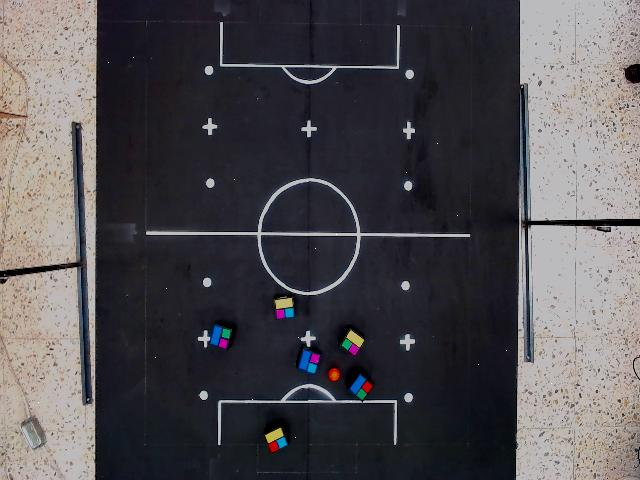robot: (347, 373, 375, 404), (339, 327, 367, 358), (263, 425, 289, 454), (208, 322, 233, 352), (296, 348, 321, 376), (273, 296, 297, 322)
